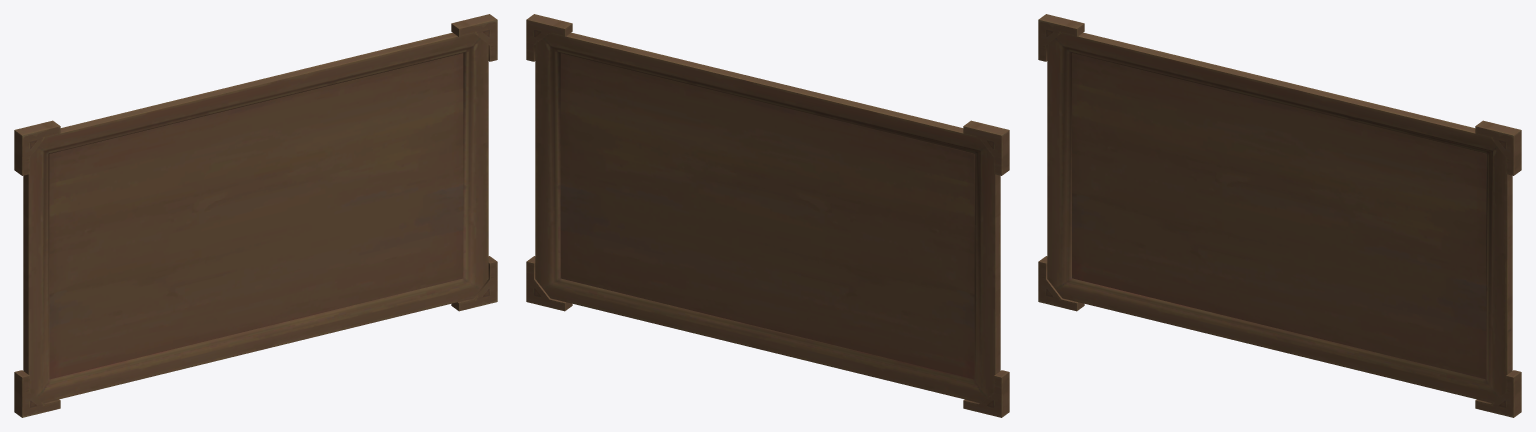
The model's file is Homeworld_Interior_Ly_Prop_Walldecoration_Frame_01_A_Vo.fbx.
The picture shows the model from 3 angles, left to right: view 1: azimuth 30°, elevation 25°; view 2: azimuth 150°, elevation 25°; view 3: azimuth 330°, elevation 25°; orthographic projection.
Parts seen in each view (by area): view 1: Homeworld_Interior_Ly_Prop_Walldecoration_Frame_01_A_Vo; view 2: Homeworld_Interior_Ly_Prop_Walldecoration_Frame_01_A_Vo; view 3: Homeworld_Interior_Ly_Prop_Walldecoration_Frame_01_A_Vo.
Boxes of the visible parts, <box> form: Homeworld_Interior_Ly_Prop_Walldecoration_Frame_01_A_Vo: <box>14,14,497,417</box>; Homeworld_Interior_Ly_Prop_Walldecoration_Frame_01_A_Vo: <box>526,14,1009,417</box>; Homeworld_Interior_Ly_Prop_Walldecoration_Frame_01_A_Vo: <box>1038,14,1521,417</box>.
Bounding box in the file's own units: 1.25 × 0.7089 × 0.0354.
